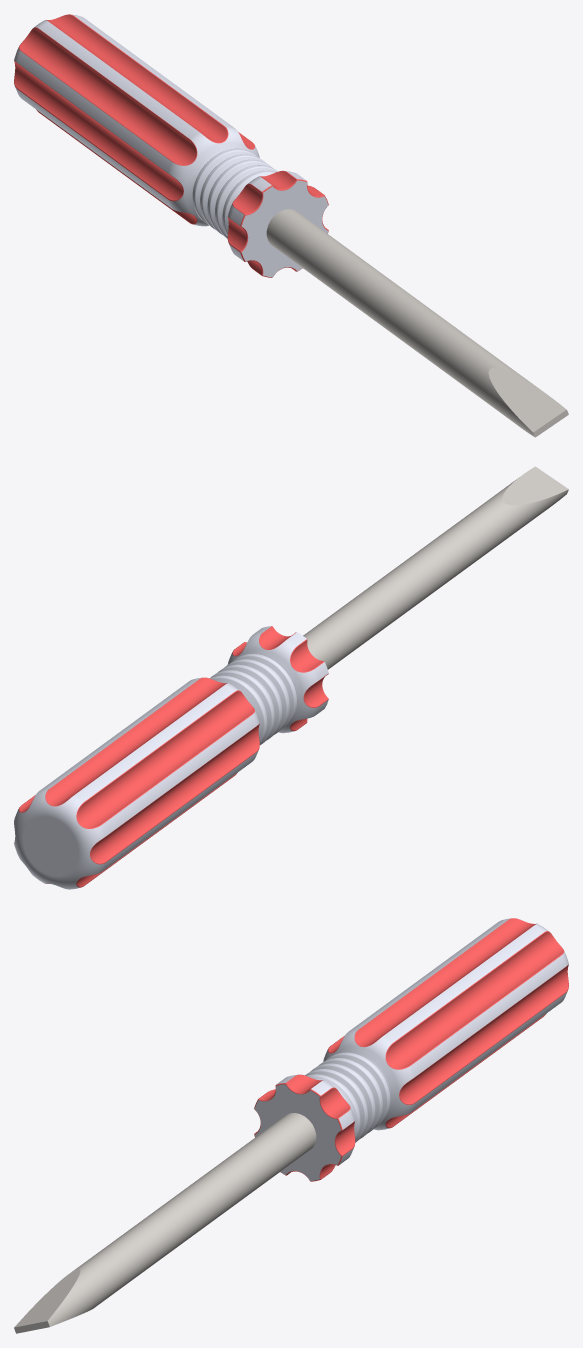
The model's file is screwdriver_flathead.dae.
3 views of the same model, one above another, from view 1: azimuth 30°, elevation 25°; view 2: azimuth 150°, elevation 25°; view 3: azimuth 330°, elevation 25° (orthographic).
Parts seen in each view (by area): view 1: mesh_3_Part29-1-solid1, mesh_2_scrow_driver-1-solid1, mesh_1_screwdriver_f; view 2: mesh_2_scrow_driver-1-solid1, mesh_3_Part29-1-solid1, mesh_1_screwdriver_f; view 3: mesh_3_Part29-1-solid1, mesh_2_scrow_driver-1-solid1, mesh_1_screwdriver_f.
Part boxes in pixels (x1,y1,x2,y2): mesh_3_Part29-1-solid1: (14, 14, 328, 277); mesh_2_scrow_driver-1-solid1: (14, 14, 328, 277); mesh_1_screwdriver_f: (266, 209, 568, 437); mesh_2_scrow_driver-1-solid1: (14, 626, 328, 889); mesh_3_Part29-1-solid1: (18, 626, 328, 887); mesh_1_screwdriver_f: (303, 466, 568, 669); mesh_3_Part29-1-solid1: (254, 918, 568, 1181); mesh_2_scrow_driver-1-solid1: (254, 918, 568, 1180); mesh_1_screwdriver_f: (14, 1113, 316, 1333).
Size of the model in its own units: 0.0481 by 0.47 by 0.0481.
